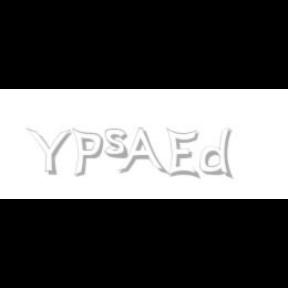A: (118, 128, 166, 176)
E: (166, 128, 199, 180)
P: (72, 128, 104, 178)
Y: (26, 128, 72, 176)
d: (199, 128, 236, 180)
s: (105, 128, 133, 160)
